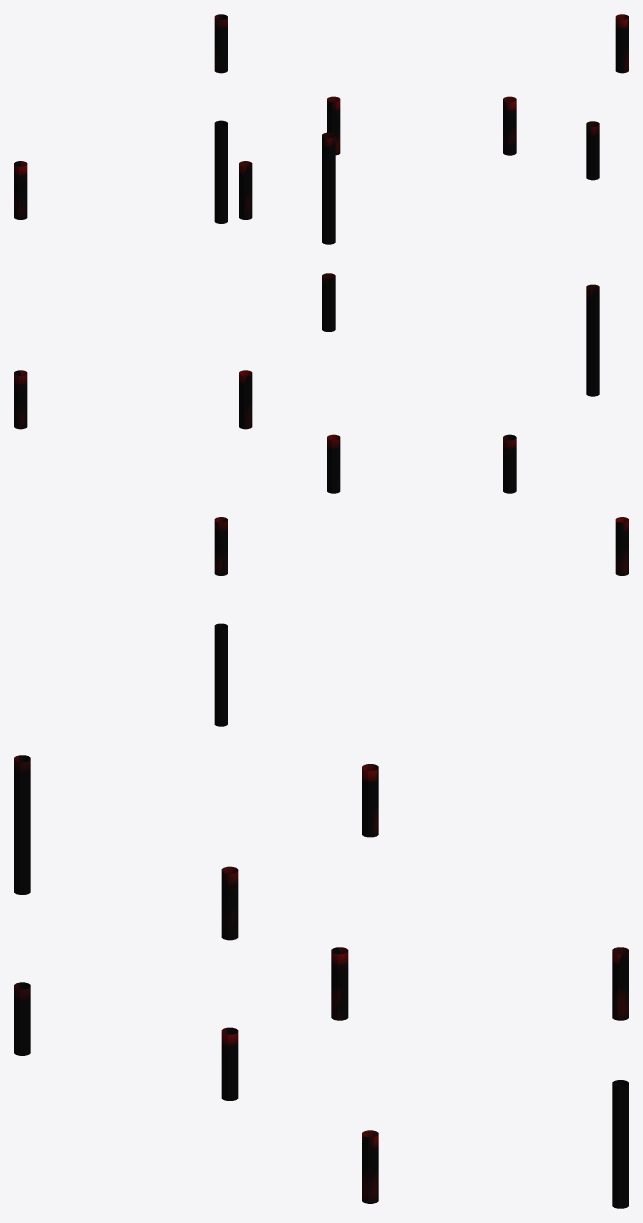
File: TowersOuter_Columns_export.obj
The picture shows the model from 3 angles, top to bottom: view 1: azimuth 30°, elevation 25°; view 2: azimuth 150°, elevation 25°; view 3: azimuth 270°, elevation 25°; orthographic projection. The views are drawn at different scales.
Visible parts, largest first — view 1: TowersOuter_Columns; view 2: TowersOuter_Columns; view 3: TowersOuter_Columns.
Boxes of the visible parts, bbox=[...] form: TowersOuter_Columns: bbox=[14, 14, 628, 244]; TowersOuter_Columns: bbox=[14, 273, 628, 726]; TowersOuter_Columns: bbox=[14, 755, 628, 1208].
Size of the model in its own units: 72.39 by 33.09 by 50.38.
